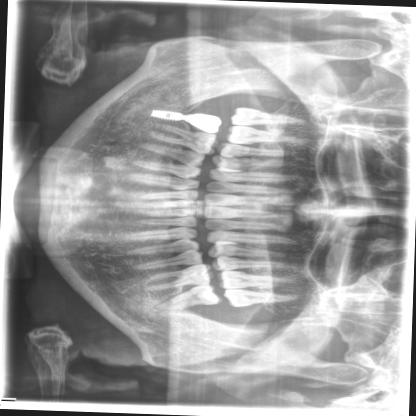Bicon: (150, 110, 193, 122)
